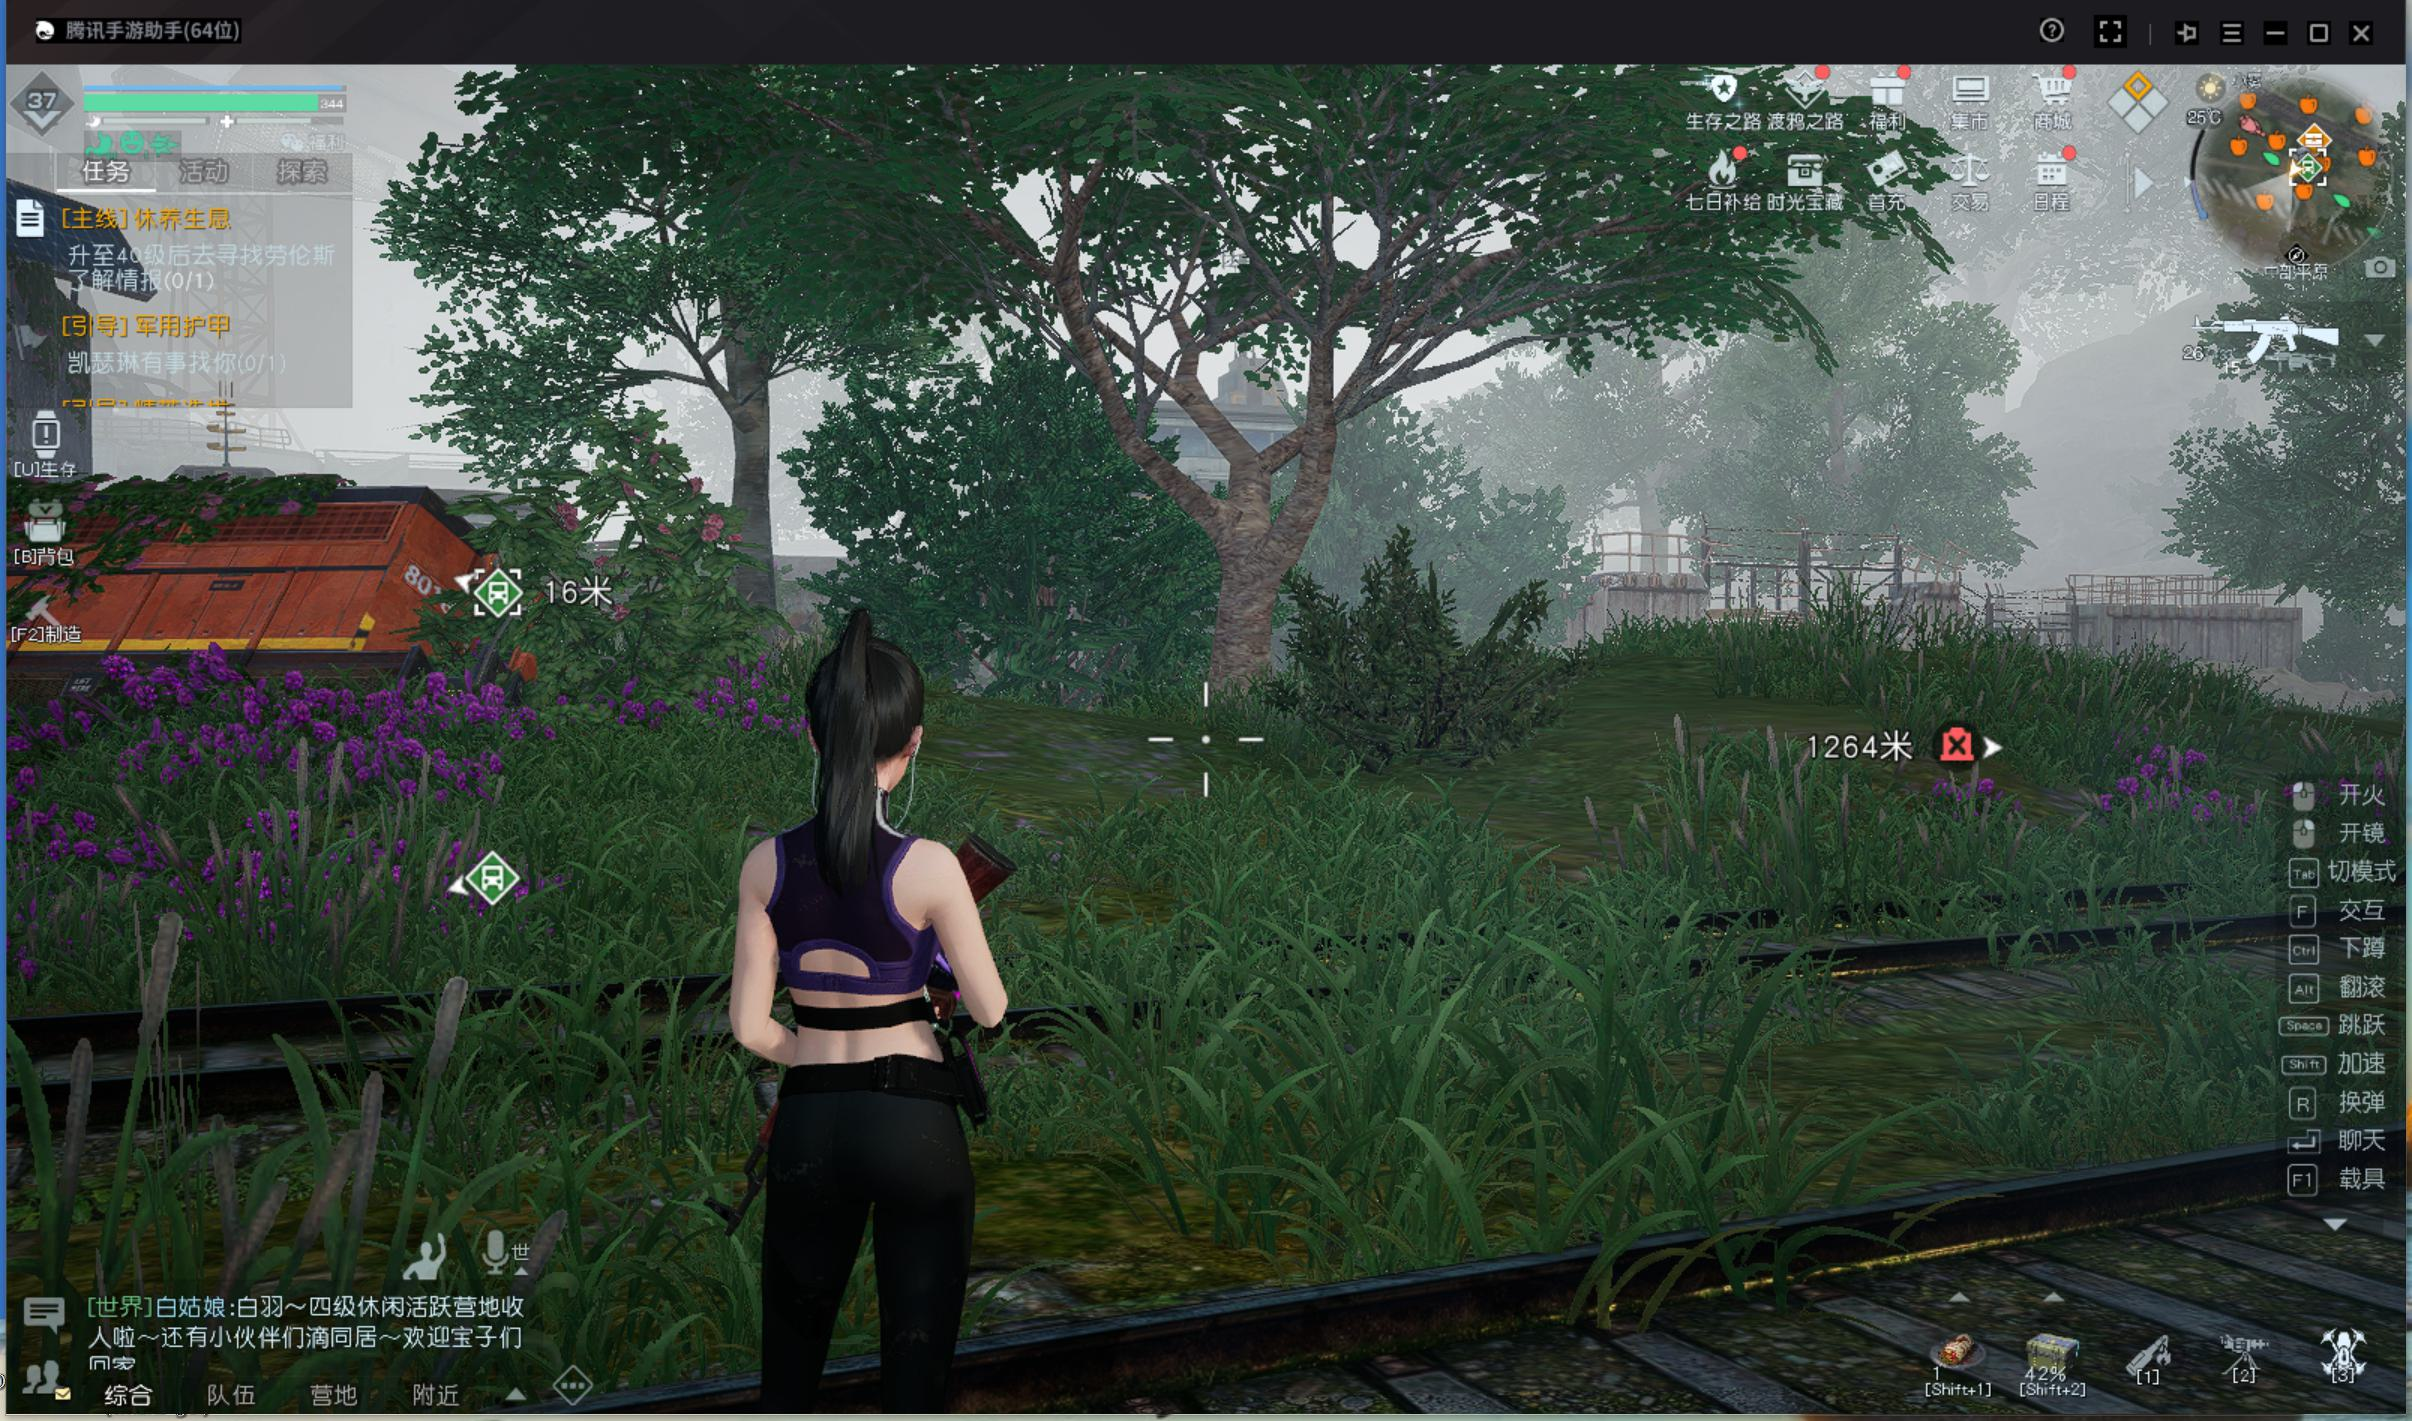tree: (726, 301, 912, 612), (1191, 386, 1285, 732), (721, 376, 809, 690), (753, 716, 847, 930), (578, 438, 727, 519), (690, 191, 807, 210)
